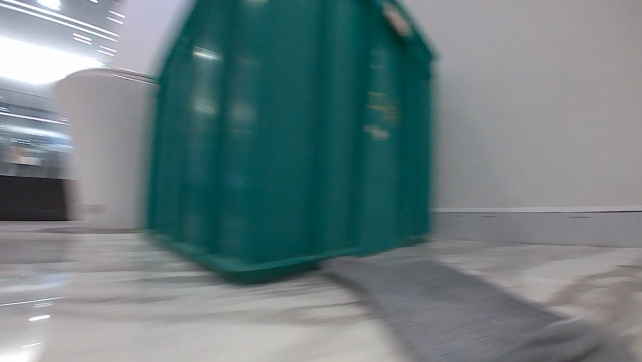socks: (317, 250, 637, 361)
toilet: (49, 58, 161, 236)
